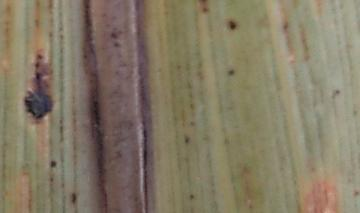tarspot: (24, 52, 55, 123), (200, 1, 209, 13), (228, 19, 236, 31), (49, 159, 58, 169), (71, 191, 77, 203), (227, 68, 236, 76), (110, 32, 118, 40), (113, 41, 121, 49), (183, 137, 191, 143), (335, 89, 341, 97), (190, 193, 196, 200)
